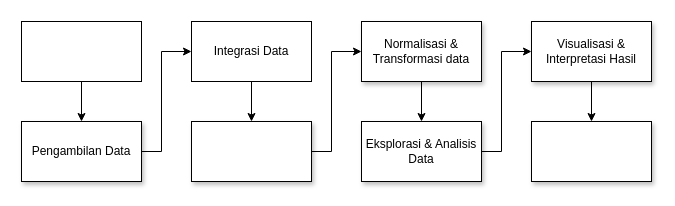
The diagram is 675 pixels wide and 206 high, and some of its shapes have lost their labels. The centre of each missing label's shape, as x and y in pixels:
"Pembersihan Data (cleaning)" belongs at point (252, 152).
"Pengumpulan Data" belongs at point (81, 51).
"Publikasi Data & Kode" belongs at point (592, 152).
